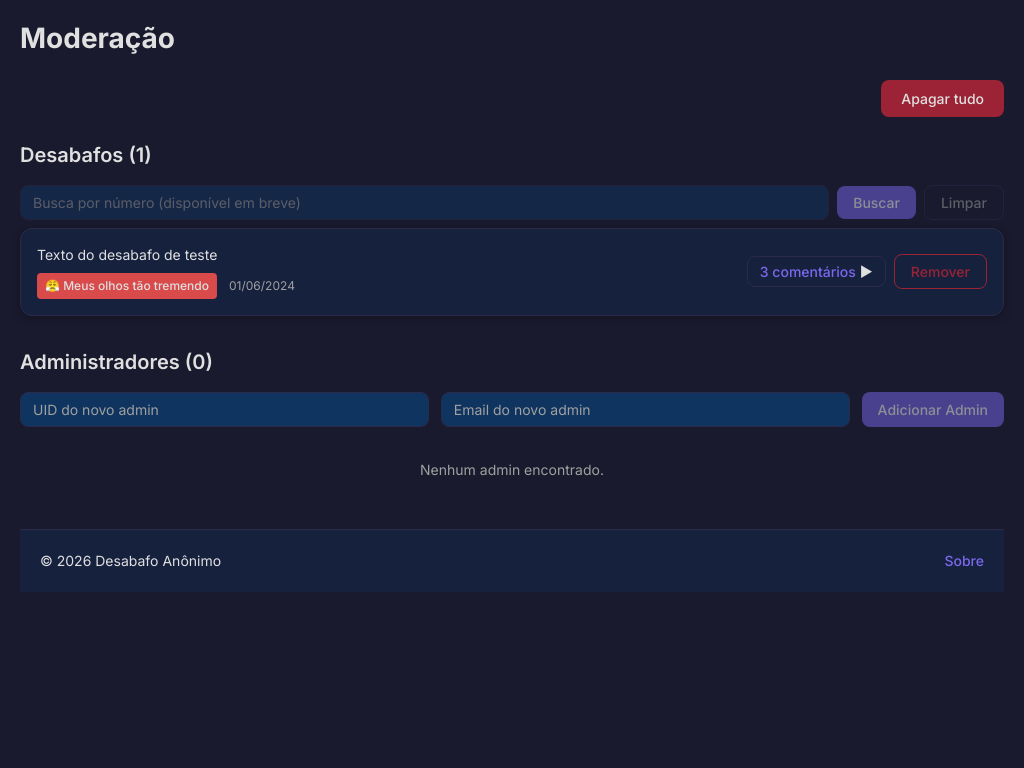
PaginaModeracao - Carregamento lazy de comentários › Req 2.5 - Erro mantém toggle ativo para retry › deve limpar erro e refazer busca ao reexpandir após erro
expect the text "3 comentários" is shown: met, box [760, 264, 856, 280]
# First expand - will fail
Click the button "3 comentários ▶" at (816, 272), box [747, 256, 886, 288]
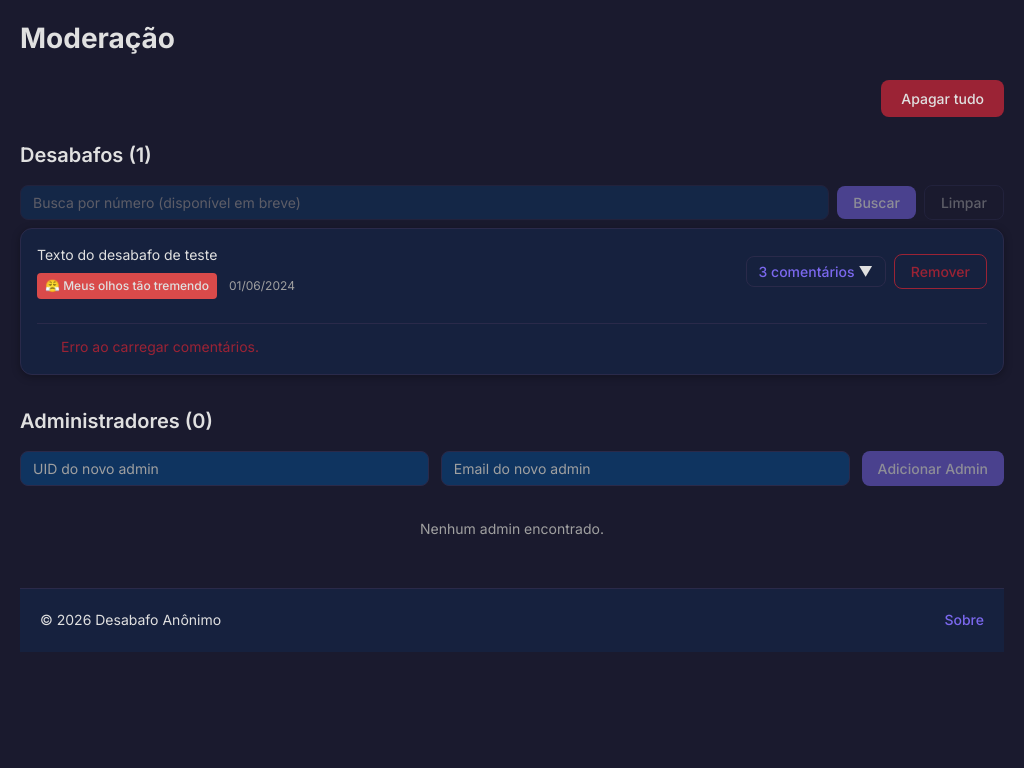
expect the text "Erro ao carregar comentários." is shown: met, box [61, 338, 259, 354]
Click the button "3 comentários ▼" at (816, 272), box [746, 256, 886, 288]
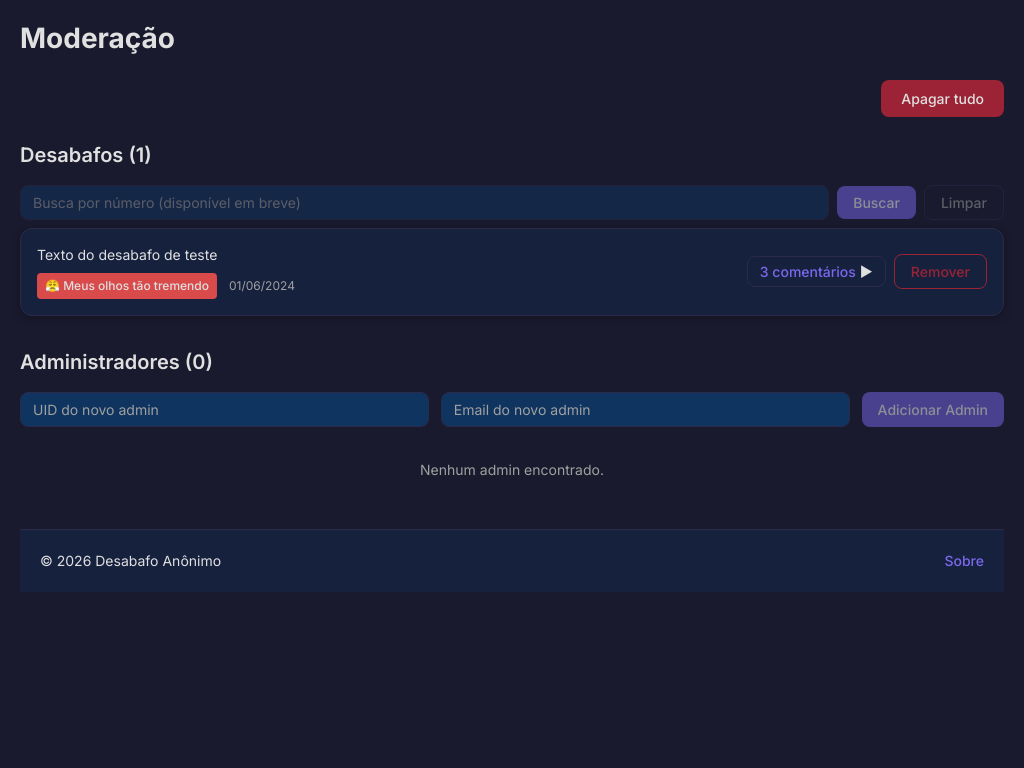
# Re-expand - should retry
Click the button "3 comentários ▶" at (816, 272), box [747, 256, 886, 288]
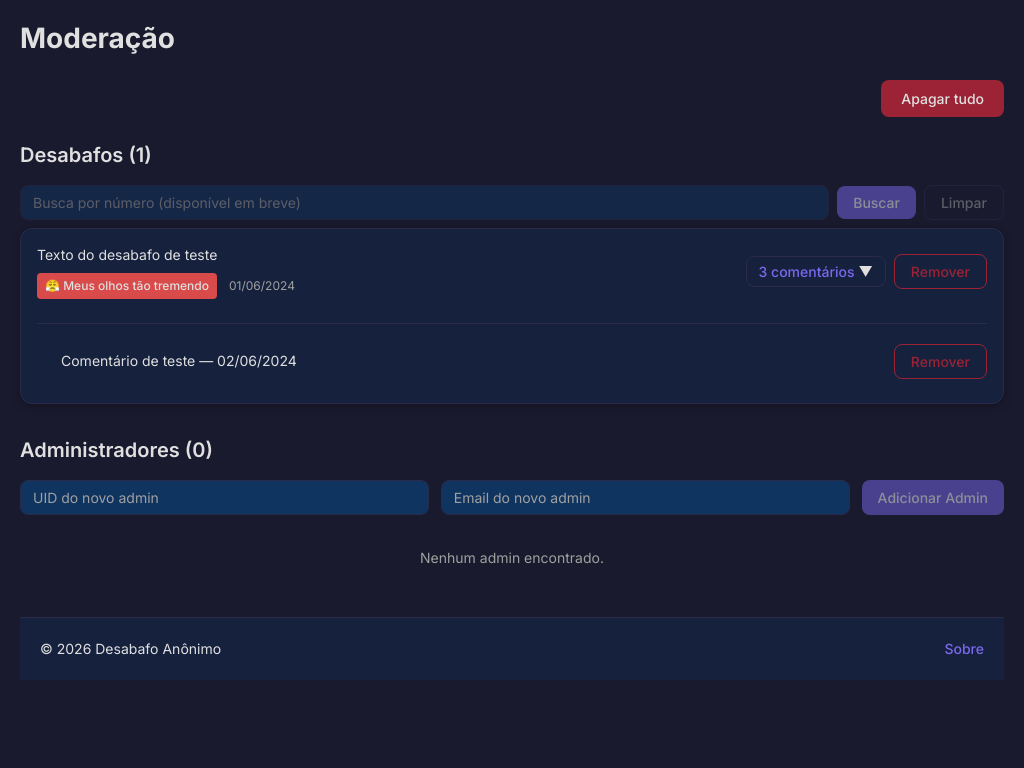
expect the text "Erro ao carregar comentários." is not shown: met
expect the text "Comentário de teste — 02/06/2024" is shown: met, box [61, 352, 297, 369]
